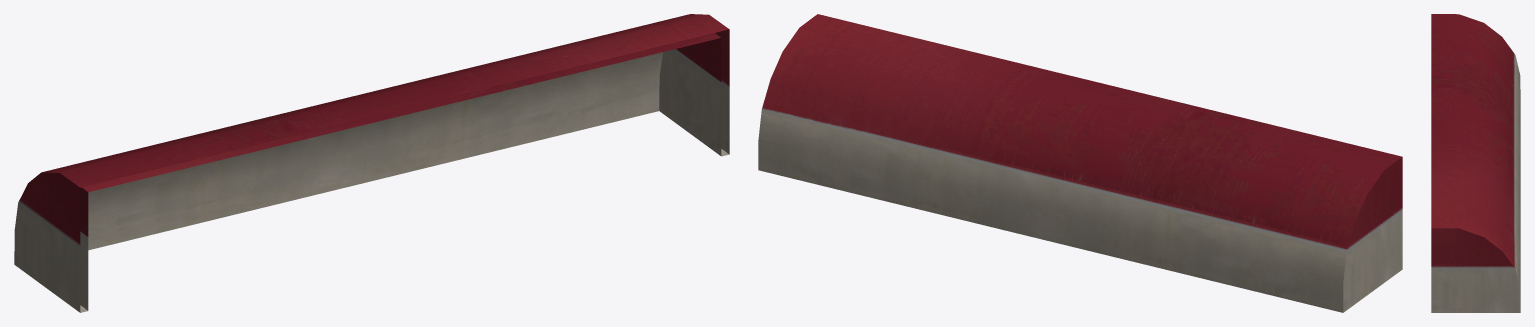
3 renders of one model, left to right at view 1: azimuth 30°, elevation 25°; view 2: azimuth 150°, elevation 25°; view 3: azimuth 270°, elevation 25°, orthographic. The views are drawn at different scales.
Parts seen in each view (by area): view 1: Awn (2); view 2: Awn (2); view 3: Awn (2).
Part boxes in pixels (x1,y1,x2,y2): Awn (2): (14, 14, 729, 312); Awn (2): (758, 14, 1402, 312); Awn (2): (1431, 14, 1520, 312).
Size of the model in its own units: 1278 by 236 by 225.
